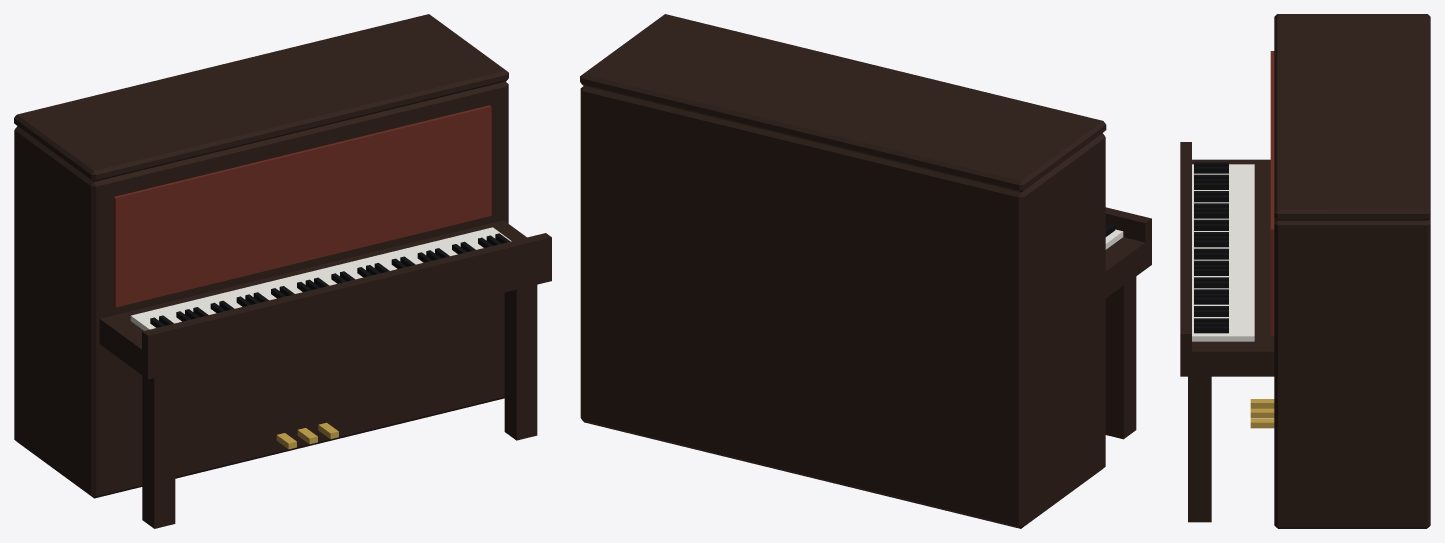
The model's file is FUR_Piano_Frac.fbx.
3 views of the same model, side by side, from view 1: azimuth 30°, elevation 25°; view 2: azimuth 150°, elevation 25°; view 3: azimuth 270°, elevation 25° (orthographic). The views are drawn at different scales.
Parts seen in each view (by area): view 1: FUR_Piano_Frac_6, FUR_Piano_Frac_4, FUR_Piano_Frac_5, FUR_Piano_Frac_2, FUR_Piano_Frac_1, FUR_Piano_Frac_3; view 2: FUR_Piano_Frac_6, FUR_Piano_Frac_2, FUR_Piano_Frac_3, FUR_Piano_Frac_5, FUR_Piano_Frac_4, FUR_Piano_Frac_1; view 3: FUR_Piano_Frac_4, FUR_Piano_Frac_6, FUR_Piano_Frac_3, FUR_Piano_Frac_1, FUR_Piano_Frac_5, FUR_Piano_Frac_2.
Part boxes in pixels (box(x1,y1,x2,y2)): FUR_Piano_Frac_6: box(14, 15, 425, 353); FUR_Piano_Frac_4: box(232, 134, 551, 464); FUR_Piano_Frac_5: box(68, 255, 298, 528); FUR_Piano_Frac_2: box(14, 224, 246, 478); FUR_Piano_Frac_1: box(168, 51, 508, 525); FUR_Piano_Frac_3: box(246, 14, 478, 295); FUR_Piano_Frac_6: box(584, 51, 1151, 295); FUR_Piano_Frac_2: box(652, 166, 1151, 528); FUR_Piano_Frac_3: box(580, 30, 816, 434); FUR_Piano_Frac_5: box(666, 276, 1136, 505); FUR_Piano_Frac_4: box(580, 271, 677, 445); FUR_Piano_Frac_1: box(637, 14, 732, 34); FUR_Piano_Frac_4: box(1180, 273, 1430, 528); FUR_Piano_Frac_6: box(1180, 14, 1430, 210); FUR_Piano_Frac_3: box(1188, 142, 1430, 399); FUR_Piano_Frac_1: box(1180, 179, 1373, 301); FUR_Piano_Frac_5: box(1180, 165, 1270, 240); FUR_Piano_Frac_2: box(1192, 159, 1270, 214).
Bounding box in the file's own units: 6 × 4.5 × 3.2.
